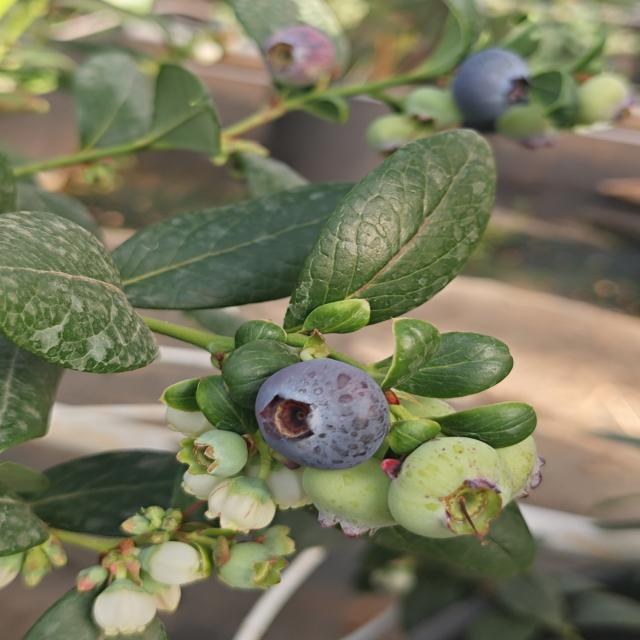ripe: (251, 356, 393, 472), (449, 46, 534, 131)
